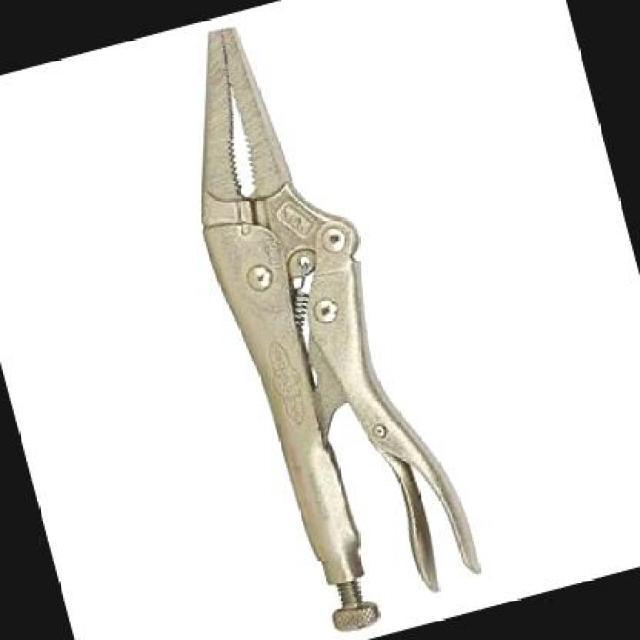pliers: (124, 0, 510, 638)
